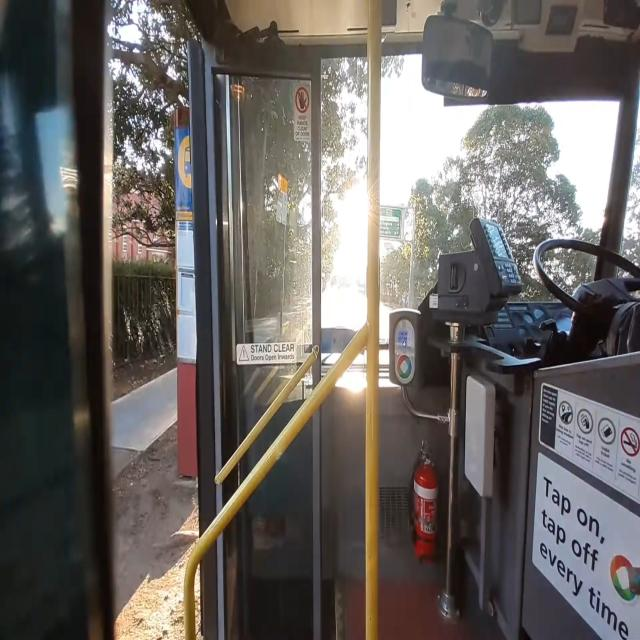bus-door: (67, 1, 327, 640)
